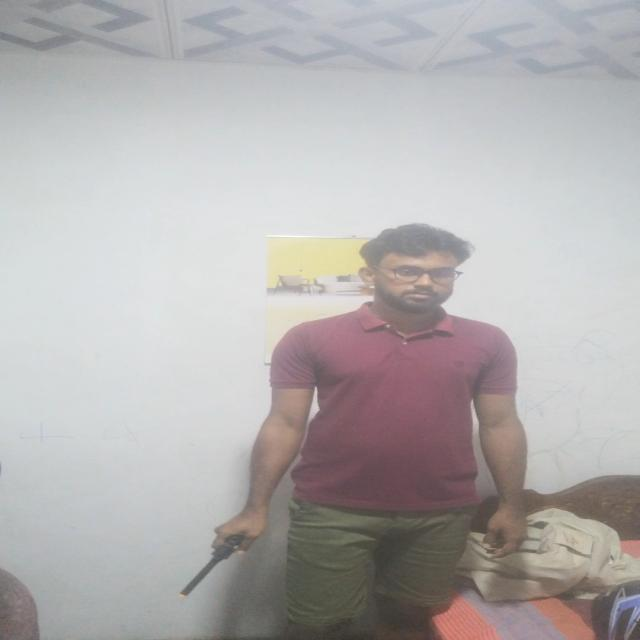Gun_Holder: (168, 515, 268, 599)
Person: (220, 223, 534, 640)
